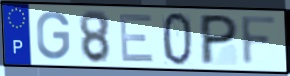0: (161, 10, 194, 67)
8: (77, 8, 113, 66)
E: (118, 12, 157, 64)
F: (239, 14, 280, 68)
G: (35, 10, 72, 61)
P: (198, 13, 240, 67)
